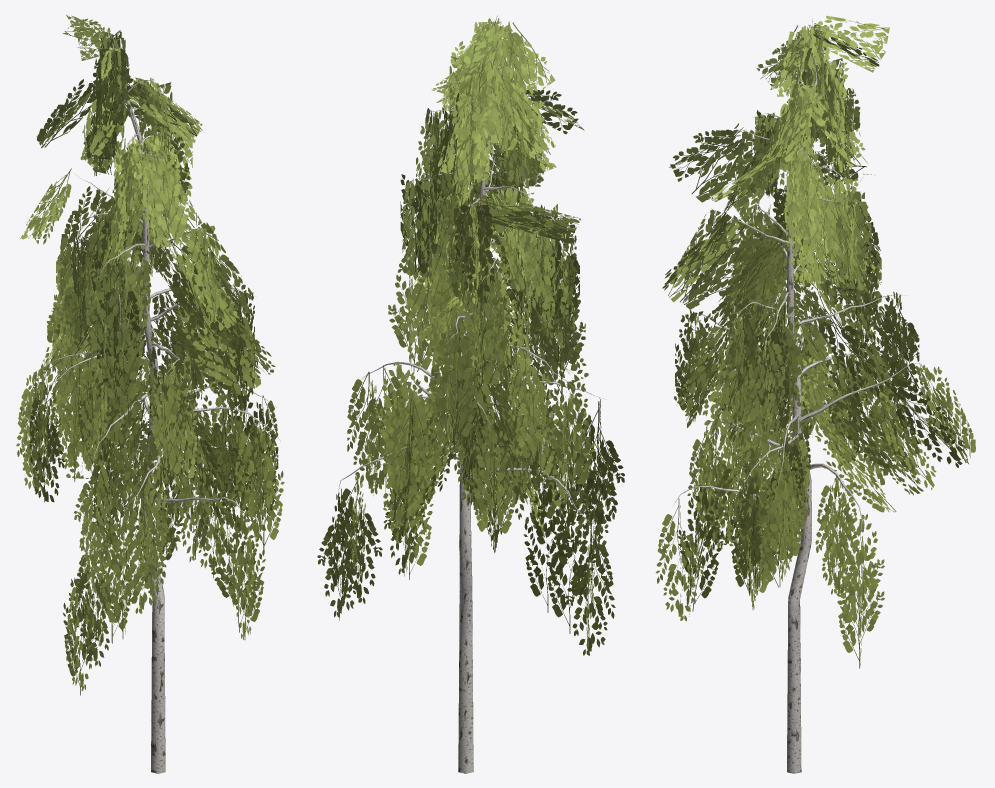
Rendered from birch_tree_3.gltf.
3 renders of one model, left to right at view 1: azimuth 30°, elevation 25°; view 2: azimuth 150°, elevation 25°; view 3: azimuth 270°, elevation 25°, orthographic. The views are drawn at different scales.
Visible parts, largest first — view 1: birch_tree_3; view 2: birch_tree_3; view 3: birch_tree_3.
Boxes of the visible parts, box(x1,y1,x2,y2) form: birch_tree_3: box(16, 15, 284, 773); birch_tree_3: box(317, 15, 624, 773); birch_tree_3: box(656, 15, 975, 773).
Bounding box in the file's own units: 3.09 × 9.18 × 3.7.
2 materials, 2 textured.
